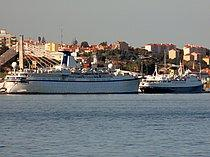Ship: (3, 59, 148, 98), (138, 69, 208, 98)
